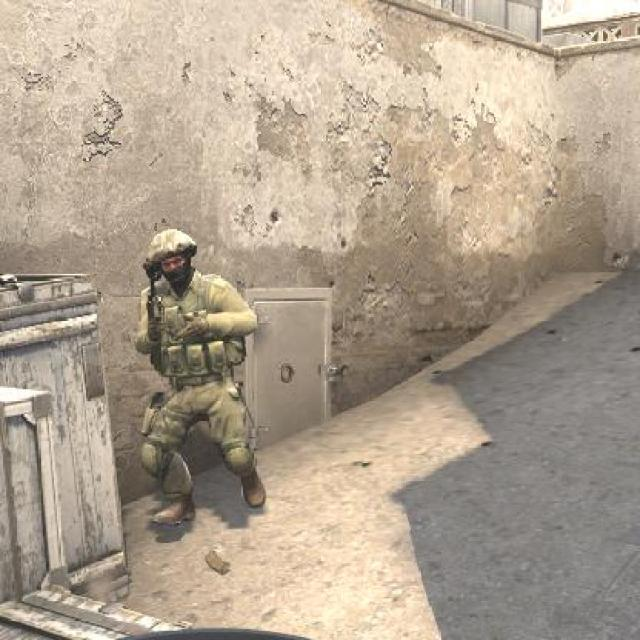CT-Body: (142, 226, 204, 286)
CT-Head: (123, 220, 274, 538)
